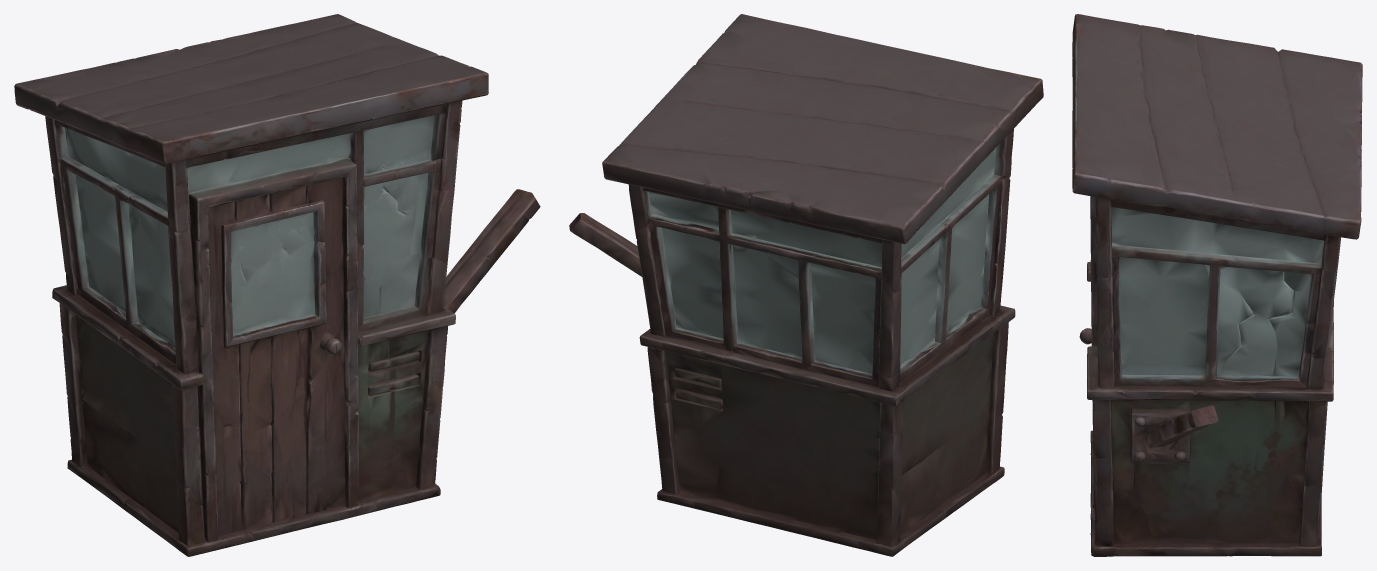
Rendered from prison_guard_booth_b_idle.glb.
The picture shows the model from 3 angles, left to right: view 1: azimuth 30°, elevation 25°; view 2: azimuth 150°, elevation 25°; view 3: azimuth 270°, elevation 25°; orthographic projection. The views are drawn at different scales.
Visible parts, largest first — view 1: tripo_node_97b4adc2-567f-47ca-87d6-d68f0996b645; view 2: tripo_node_97b4adc2-567f-47ca-87d6-d68f0996b645; view 3: tripo_node_97b4adc2-567f-47ca-87d6-d68f0996b645.
Boxes of the visible parts, left/top/right/bottom form: tripo_node_97b4adc2-567f-47ca-87d6-d68f0996b645: left=14, top=14, right=540, bottom=556; tripo_node_97b4adc2-567f-47ca-87d6-d68f0996b645: left=569, top=14, right=1043, bottom=556; tripo_node_97b4adc2-567f-47ca-87d6-d68f0996b645: left=1072, top=14, right=1362, bottom=556.
Bounding box in the file's own units: 3.23 × 3 × 1.92.
Materials: 1 (1 with a texture image).
